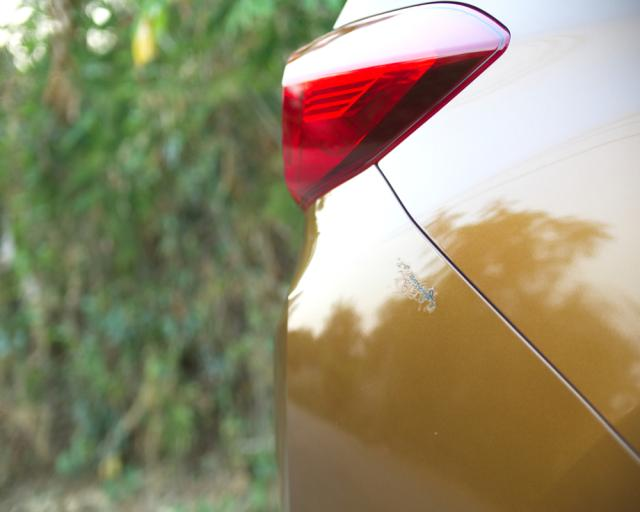scratch: (390, 250, 444, 317)
